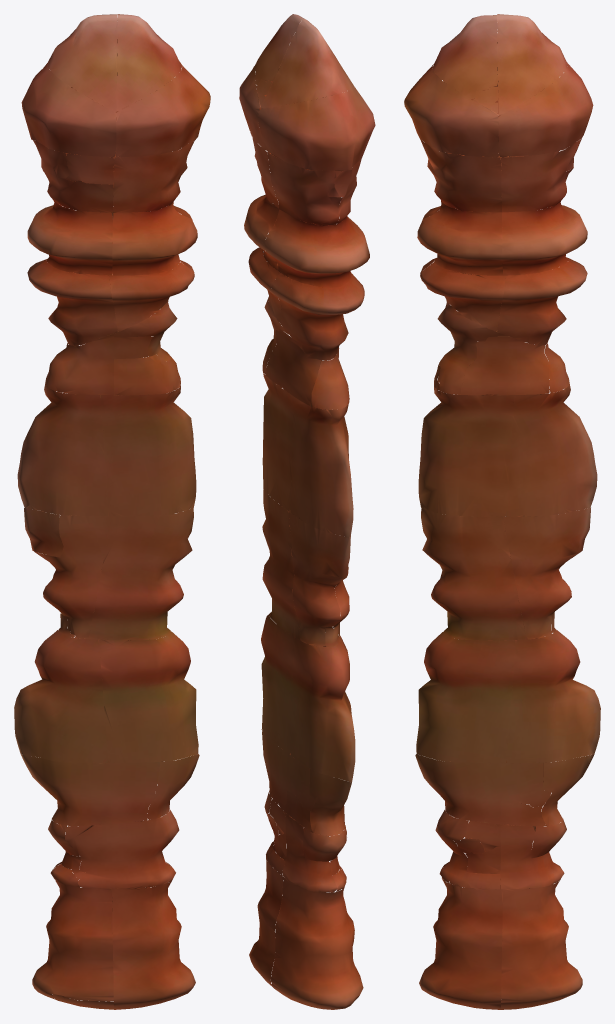
File: staff1.glb
3 views of the same model, side by side, from view 1: azimuth 90°, elevation 25°; view 2: azimuth 210°, elevation 25°; view 3: azimuth 270°, elevation 25° (orthographic).
Parts seen in each view (by area): view 1: staff1; view 2: staff1; view 3: staff1.
Boxes of the visible parts, x1=… form: staff1: x1=14, y1=14, x2=210, y2=1009; staff1: x1=239, y1=14, x2=375, y2=1009; staff1: x1=404, y1=14, x2=600, y2=1009.
Bounding box in the file's own units: 0.102 × 0.9999 × 0.1808.
Materials: 1 (1 with a texture image).
